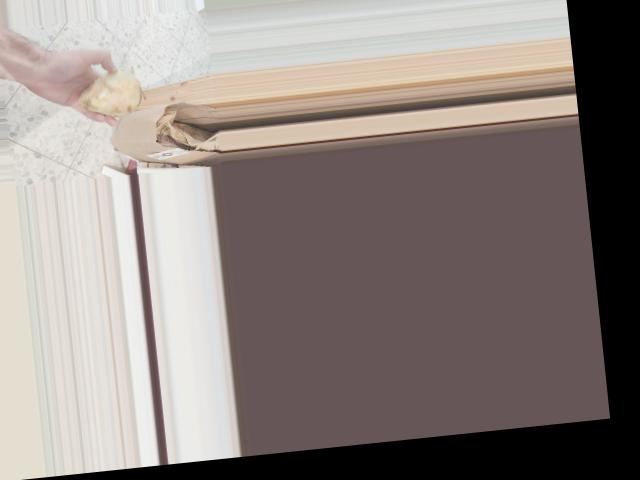onion: (76, 65, 149, 121)
